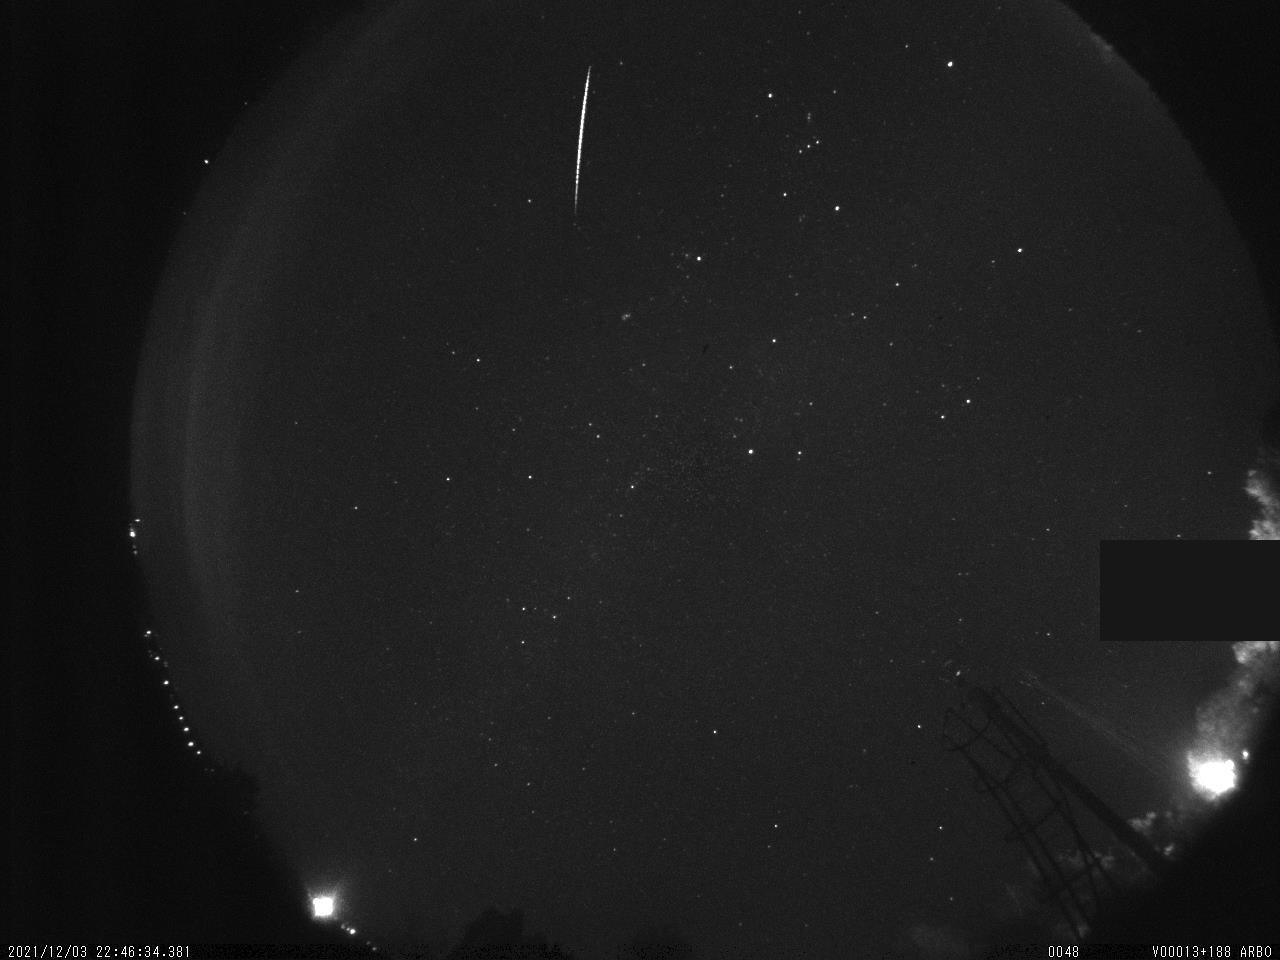Meteor: (569, 61, 597, 210)
